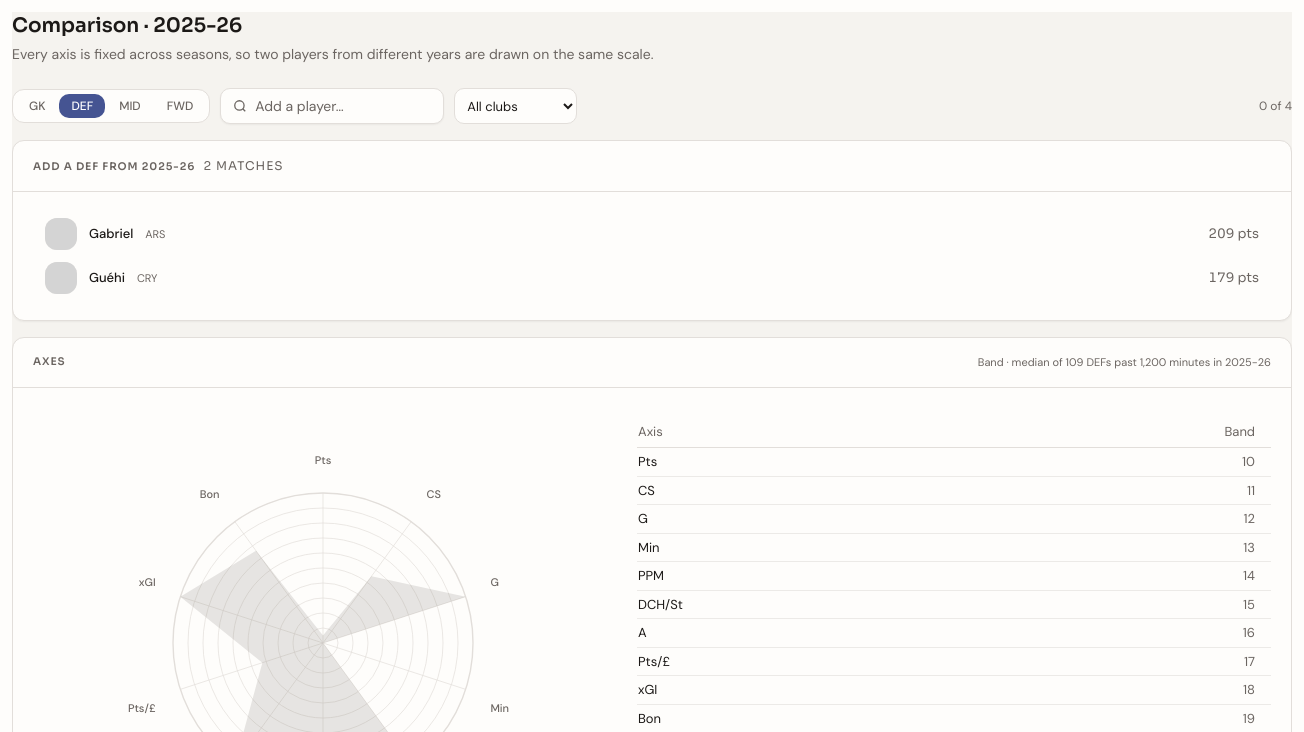
it: the picker › narrows by name, and drops a player already picked
Click the button with aria-label "Add Gabriel".
click(61, 234)  # box [33,212,1271,256]
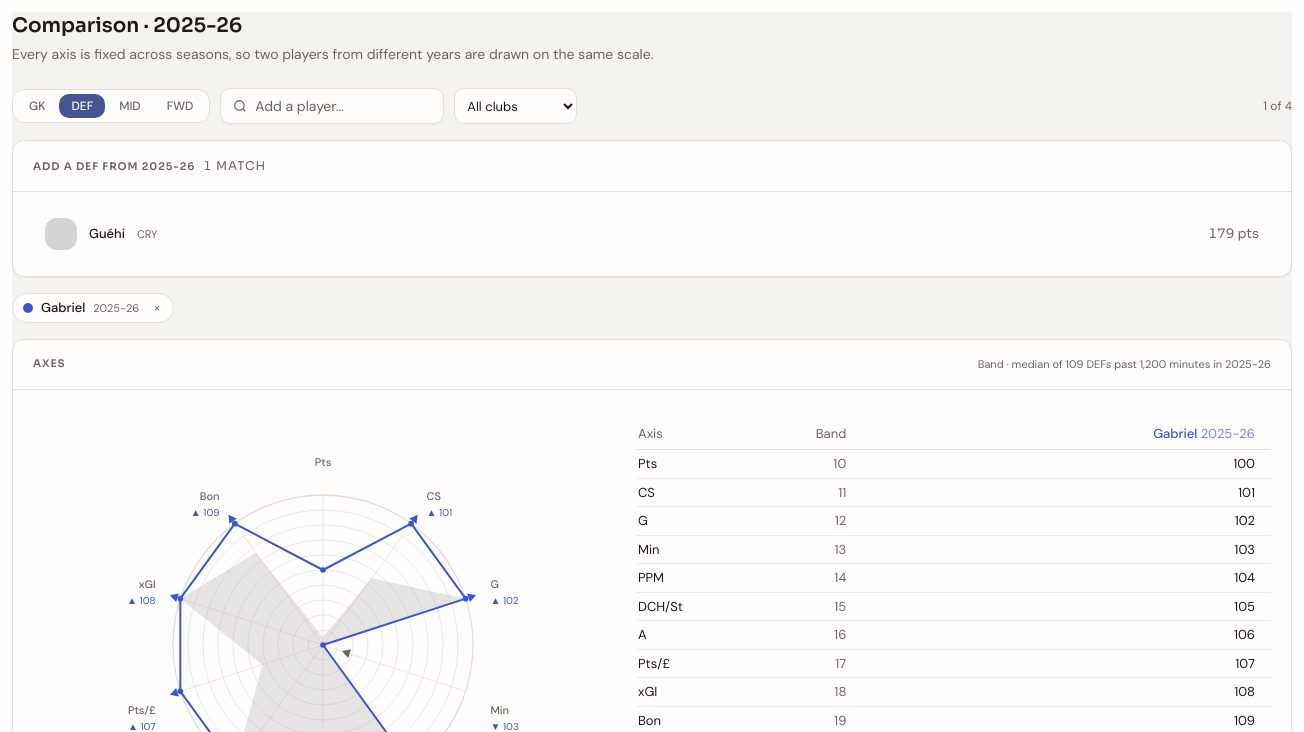
Type "zzz" into the field.
click(343, 106); type("zzz")  # box [255,96,431,116]
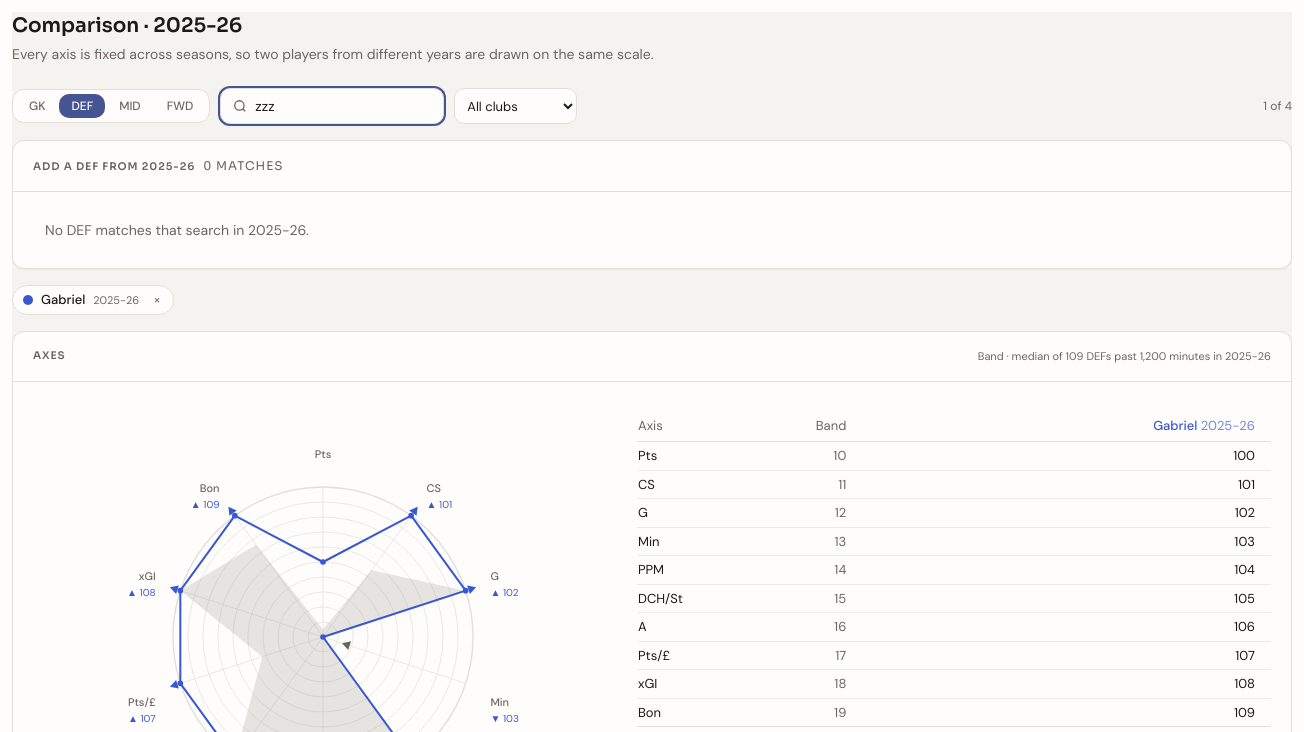
Expected: the text "No DEF matches that search in 2025-26." is shown, [45,221,309,239]
